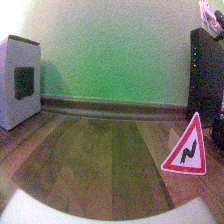vorsicht: (156, 109, 210, 176)
